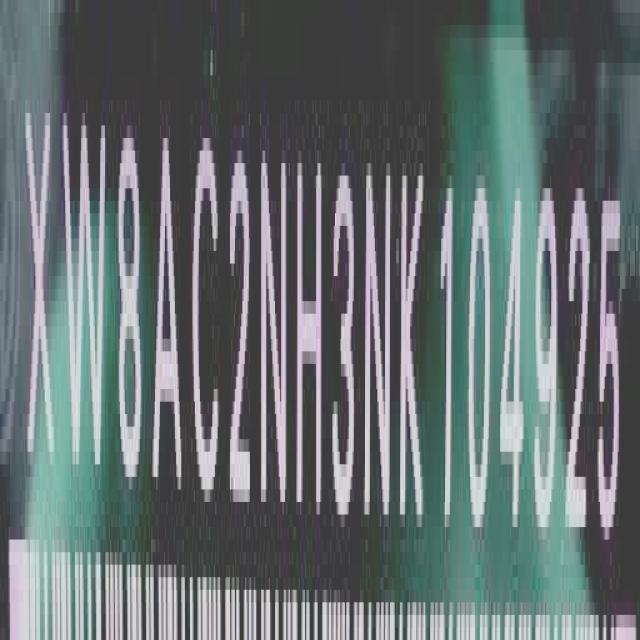0: (466, 177, 489, 525)
1: (432, 163, 457, 539)
2: (564, 181, 594, 544), (228, 130, 254, 512)
3: (331, 162, 356, 520)
4: (498, 154, 528, 553), (531, 172, 559, 544)
5: (596, 186, 621, 539)
8: (115, 144, 143, 474)
A: (148, 130, 183, 493)
C: (190, 126, 223, 516)
H: (295, 144, 324, 507)
K: (398, 153, 427, 539)
N: (362, 116, 396, 530), (260, 130, 290, 530)
W: (58, 112, 110, 456)
X: (23, 84, 57, 483)
